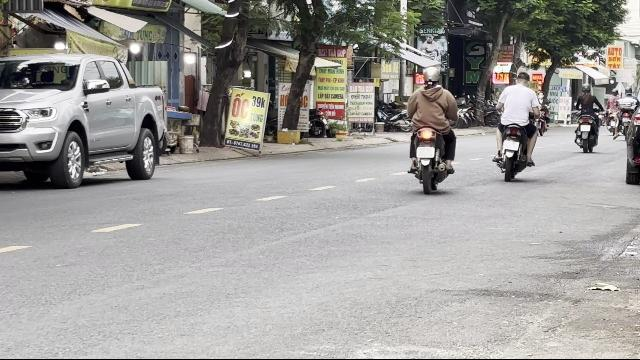helmet: (422, 66, 442, 86)
licenseplate: (417, 146, 433, 158), (503, 140, 519, 152)
motorcyclist: (403, 64, 459, 192), (492, 68, 540, 180)
nohelmet: (514, 68, 530, 84)
